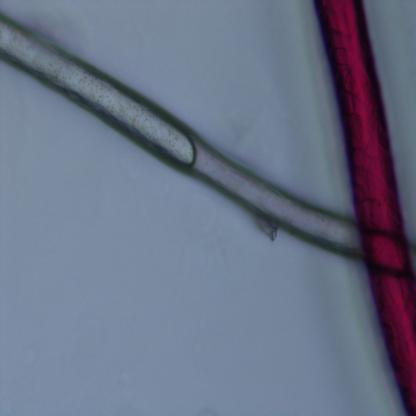Hair textile: (313, 0, 416, 415)
Microfibre: (0, 10, 364, 262)
